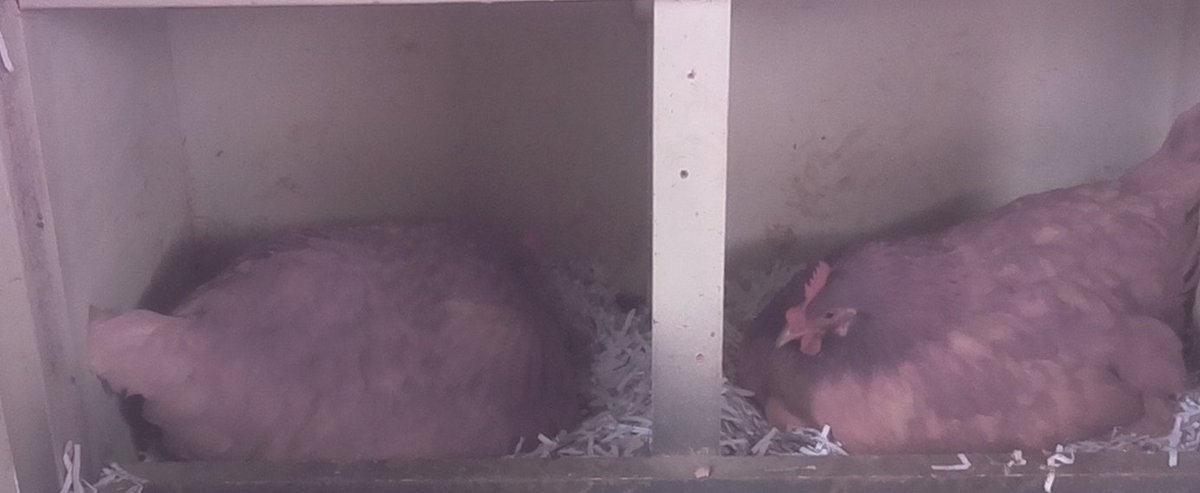hen: (744, 99, 1200, 448), (82, 213, 596, 462)
